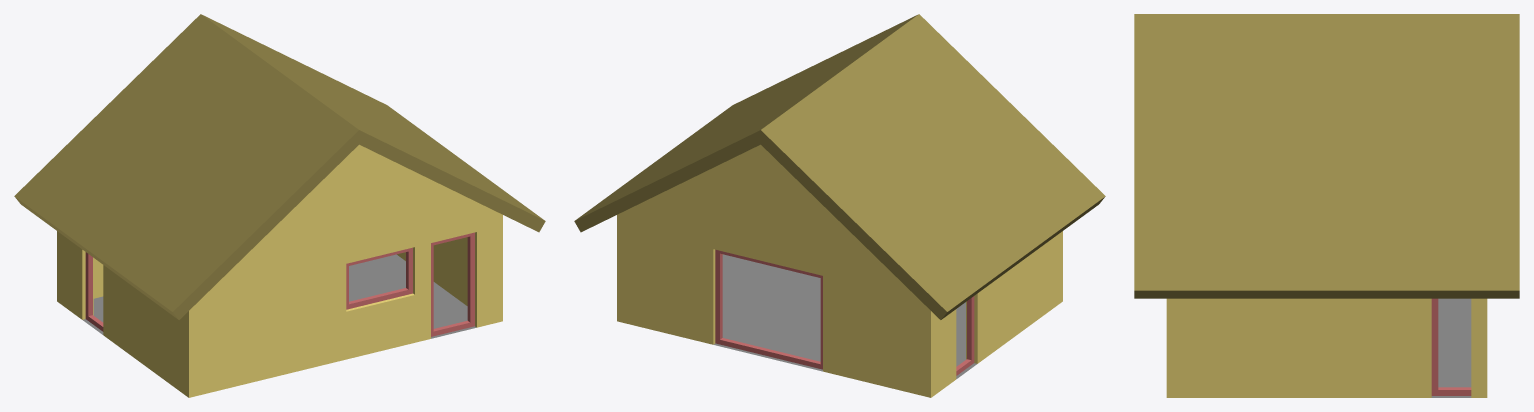
File: result.glb
3 views of the same model, side by side, from view 1: azimuth 30°, elevation 25°; view 2: azimuth 150°, elevation 25°; view 3: azimuth 270°, elevation 25° (orthographic). The views are drawn at different scales.
Parts seen in each view (by area): view 1: d9efdcf5-68c4-48fc-b079-a09f08fb6df2__undefined (×2), 5ee4dbce-db9e-4c5b-9200-855ee178b981__undefined, dd78c959-098c-4159-a0d1-520c88b4ad89__Plane_6, 4d4f016d-88fa-4e9e-a293-52fbde05732e__Box, 8aeb38c5-86b0-4777-b729-06ee8dc3c6fc__Box_3, e46ab852-3ccc-49c4-98af-ce6d32dbe007__Box_12; view 2: d9efdcf5-68c4-48fc-b079-a09f08fb6df2__undefined (×2), 5ee4dbce-db9e-4c5b-9200-855ee178b981__undefined, dd78c959-098c-4159-a0d1-520c88b4ad89__Plane_6, a98edcee-a51d-4fa6-ab5a-2fdc96ebd7a3__Box_9, e46ab852-3ccc-49c4-98af-ce6d32dbe007__Box_12; view 3: d9efdcf5-68c4-48fc-b079-a09f08fb6df2__undefined, 5ee4dbce-db9e-4c5b-9200-855ee178b981__undefined, dd78c959-098c-4159-a0d1-520c88b4ad89__Plane_6, 8ecaa0f9-ba9f-43b6-a37a-b0d7b5990dc0__Box_15.
Boxes of the visible parts, <box> form: d9efdcf5-68c4-48fc-b079-a09f08fb6df2__undefined (×2): <box>14,14,545,319</box>; 5ee4dbce-db9e-4c5b-9200-855ee178b981__undefined: <box>57,144,502,397</box>; dd78c959-098c-4159-a0d1-520c88b4ad89__Plane_6: <box>83,254,476,338</box>; 4d4f016d-88fa-4e9e-a293-52fbde05732e__Box: <box>431,232,474,336</box>; 8aeb38c5-86b0-4777-b729-06ee8dc3c6fc__Box_3: <box>346,247,412,309</box>; e46ab852-3ccc-49c4-98af-ce6d32dbe007__Box_12: <box>85,252,103,331</box>; d9efdcf5-68c4-48fc-b079-a09f08fb6df2__undefined (×2): <box>574,14,1105,319</box>; 5ee4dbce-db9e-4c5b-9200-855ee178b981__undefined: <box>617,144,1062,397</box>; dd78c959-098c-4159-a0d1-520c88b4ad89__Plane_6: <box>713,254,976,378</box>; a98edcee-a51d-4fa6-ab5a-2fdc96ebd7a3__Box_9: <box>715,249,822,369</box>; e46ab852-3ccc-49c4-98af-ce6d32dbe007__Box_12: <box>956,296,974,375</box>; d9efdcf5-68c4-48fc-b079-a09f08fb6df2__undefined: <box>1134,14,1519,298</box>; 5ee4dbce-db9e-4c5b-9200-855ee178b981__undefined: <box>1166,298,1487,397</box>; dd78c959-098c-4159-a0d1-520c88b4ad89__Plane_6: <box>1431,298,1471,397</box>; 8ecaa0f9-ba9f-43b6-a37a-b0d7b5990dc0__Box_15: <box>1431,298,1471,395</box>.
Bounding box in the file's own units: 816 × 500 × 600.
